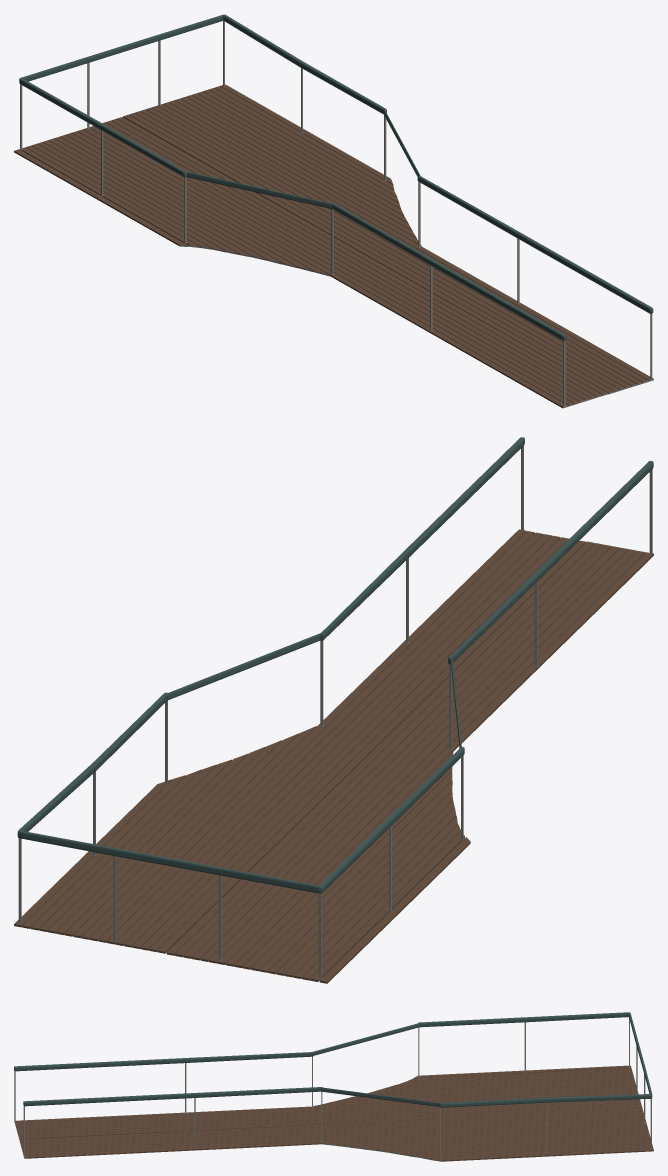
The model's file is BoardWalk.fbx.
3 views of the same model, one above another, from view 1: azimuth 30°, elevation 25°; view 2: azimuth 150°, elevation 25°; view 3: azimuth 270°, elevation 25° (orthographic). The views are drawn at different scales.
Parts seen in each view (by area): view 1: BoardWalk; view 2: BoardWalk; view 3: BoardWalk.
Part boxes in pixels (x1,y1,x2,y2): BoardWalk: (14,14,653,408); BoardWalk: (14,437,653,983); BoardWalk: (14,1012,653,1161).
Bounding box in the file's own units: 10.03 × 2.76 × 28.44.
